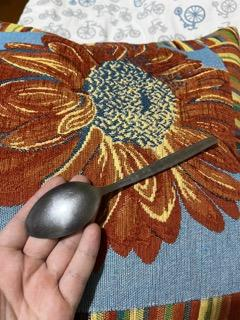spoon: (22, 134, 223, 241)
